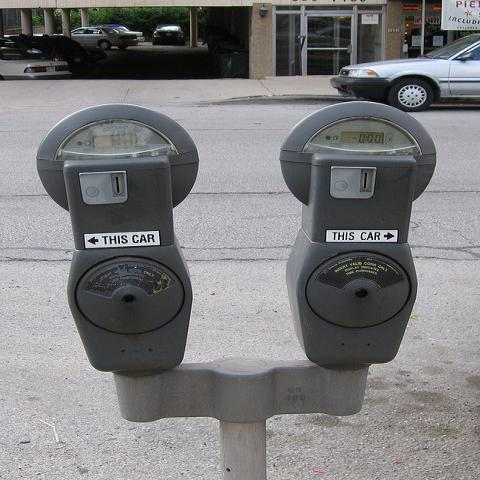car: (328, 30, 478, 112), (10, 35, 108, 67), (0, 46, 74, 81), (70, 26, 139, 49), (92, 25, 145, 42), (150, 25, 185, 45)
